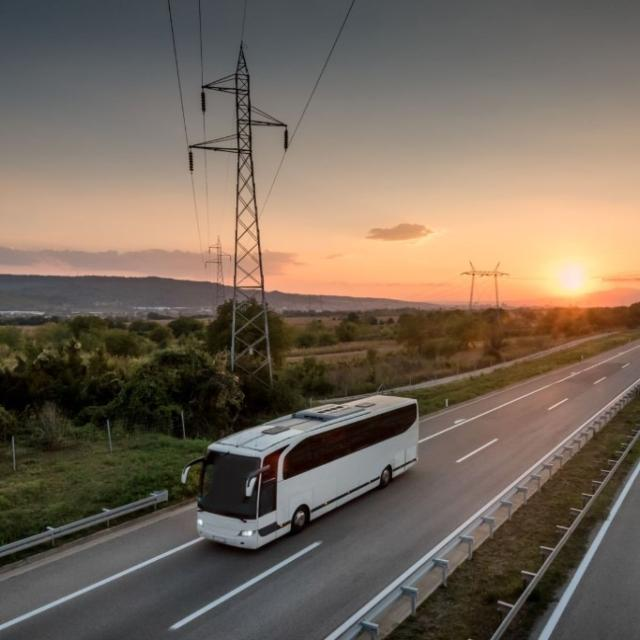bus: (180, 392, 419, 551)
